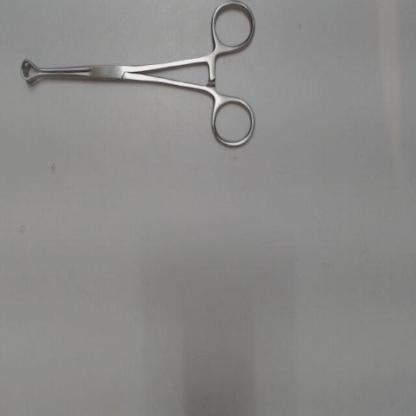Babcock Tissue Forceps: (15, 1, 259, 158)
